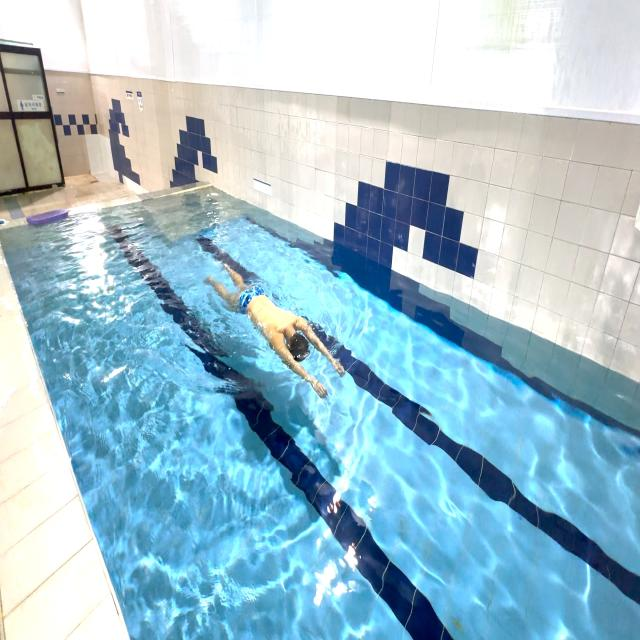Swimming: (200, 236, 351, 415)
